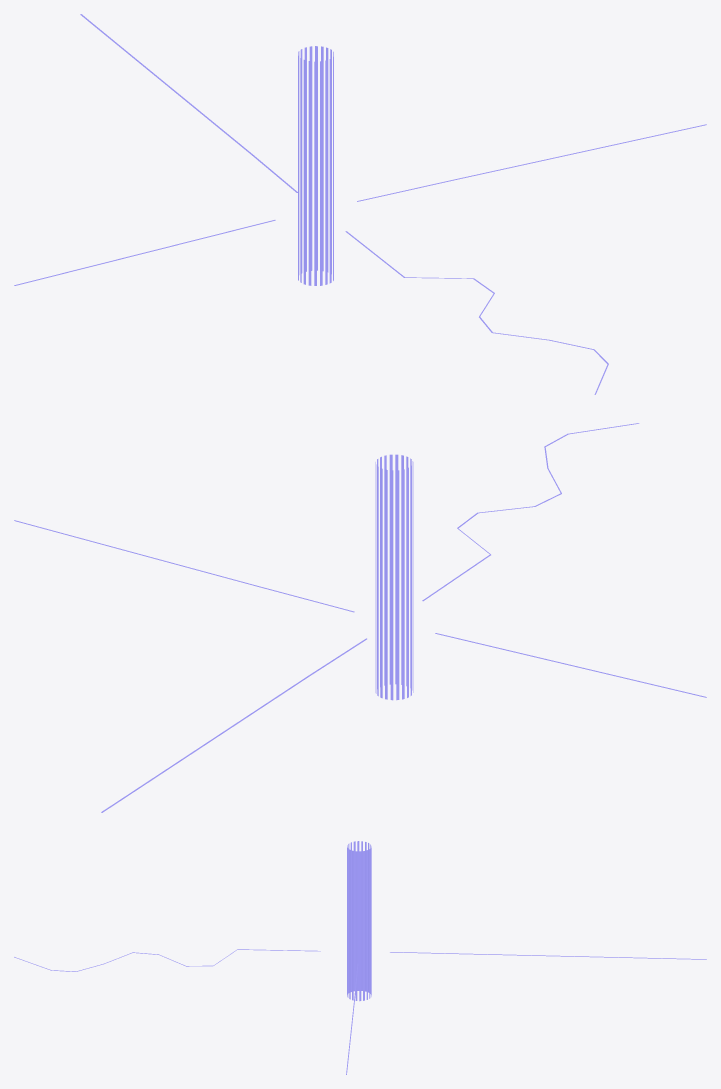
3 renders of one model, top to bottom at view 1: azimuth 30°, elevation 25°; view 2: azimuth 150°, elevation 25°; view 3: azimuth 270°, elevation 25°, orthographic. The views are drawn at different scales.
Visible parts, largest first — view 1: pCylinder5, pCube3; view 2: pCylinder5, pCube3; view 3: pCylinder5, polySurface13, pCube3.
Part boxes in pixels (x1,y1,x2,y2): pCylinder5: [298, 46, 333, 285]; pCube3: [345, 231, 608, 394]; pCylinder5: [375, 454, 413, 700]; pCube3: [422, 423, 639, 601]; pCylinder5: [347, 841, 371, 1001]; polySurface13: [390, 952, 706, 959]; pCube3: [14, 949, 320, 971].
Bounding box in the file's own units: 8669 × 2717 × 11399.
